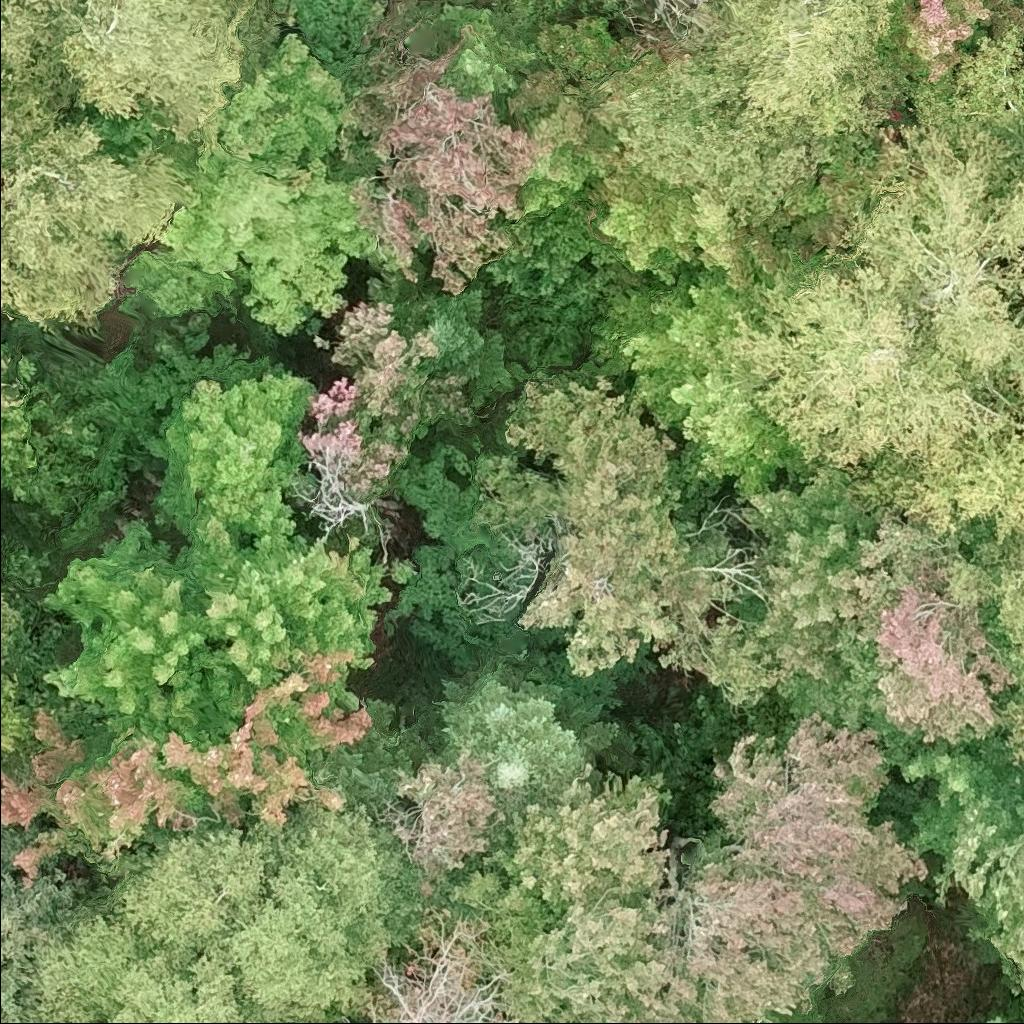crown: (712, 116, 1023, 545), (476, 367, 783, 710), (64, 31, 383, 336), (20, 801, 456, 1023), (0, 0, 278, 331), (0, 647, 373, 886), (43, 511, 415, 744), (735, 469, 1020, 769), (675, 712, 929, 1023), (593, 0, 913, 226), (449, 760, 703, 1023), (585, 247, 812, 497), (346, 54, 554, 296), (299, 269, 490, 495), (424, 644, 623, 811), (896, 738, 1023, 996), (146, 355, 322, 539), (590, 132, 785, 292), (506, 19, 643, 217), (0, 820, 93, 1023), (397, 272, 516, 399), (878, 0, 1023, 93), (908, 23, 1023, 134), (980, 529, 1023, 775), (0, 342, 63, 501), (0, 661, 71, 763), (0, 583, 37, 668), (1002, 115, 1023, 143), (0, 356, 10, 409), (983, 1010, 1023, 1023), (1021, 21, 1023, 27), (1021, 1, 1023, 3)
